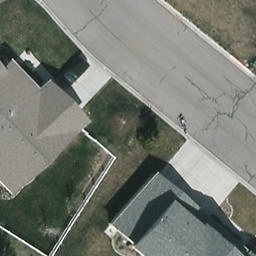car: (53, 55, 93, 93)
